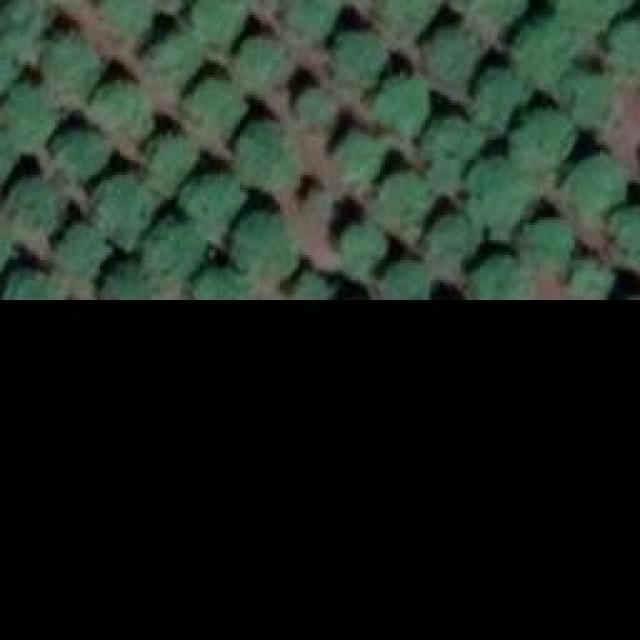Tree: (465, 160, 543, 223), (238, 210, 301, 280), (418, 125, 481, 193), (565, 150, 623, 220), (8, 178, 71, 238), (472, 68, 530, 133), (240, 123, 298, 186), (98, 177, 151, 245), (233, 40, 298, 95), (513, 110, 578, 165), (328, 32, 388, 90), (372, 177, 430, 235), (193, 173, 246, 236), (515, 28, 578, 81), (190, 83, 245, 143), (563, 75, 623, 128), (375, 70, 430, 125), (52, 38, 100, 101), (158, 210, 208, 270), (58, 128, 113, 181), (7, 85, 55, 145), (100, 83, 153, 136), (148, 138, 201, 191), (153, 33, 203, 86), (3, 0, 46, 60), (98, 260, 163, 298), (520, 222, 570, 270), (377, 0, 434, 42), (373, 260, 436, 298), (55, 230, 110, 273), (428, 218, 483, 261), (343, 225, 386, 278), (435, 28, 480, 78), (197, 0, 250, 42), (552, 0, 630, 28), (338, 132, 383, 180), (560, 258, 610, 301), (465, 0, 530, 32), (607, 14, 640, 77), (285, 0, 338, 38), (102, 0, 149, 42), (478, 257, 528, 295), (7, 268, 65, 298), (612, 207, 640, 265), (198, 270, 251, 300), (300, 90, 338, 130), (290, 273, 333, 298), (0, 128, 15, 188), (305, 190, 330, 218)
